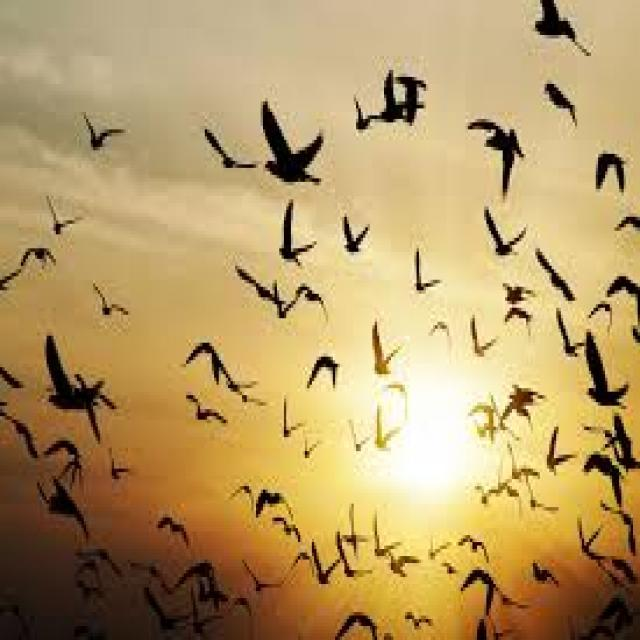bird: (41, 340, 106, 448), (257, 94, 322, 200), (143, 558, 218, 638), (470, 92, 517, 198), (200, 114, 265, 180), (268, 195, 316, 284), (478, 180, 530, 261), (230, 259, 282, 336), (70, 90, 124, 164), (300, 334, 352, 401), (584, 131, 633, 201), (527, 0, 585, 59), (43, 477, 94, 544), (328, 194, 370, 275), (583, 344, 630, 414), (178, 376, 236, 432), (532, 64, 580, 128), (362, 311, 402, 385), (40, 178, 86, 242), (382, 61, 422, 131), (191, 336, 240, 392), (88, 272, 132, 332), (154, 502, 197, 562), (335, 533, 377, 593), (536, 247, 574, 310), (569, 516, 606, 579), (542, 426, 584, 479), (404, 241, 441, 301), (102, 440, 138, 500), (224, 462, 262, 518), (252, 476, 296, 524), (242, 548, 286, 596), (363, 504, 400, 560), (343, 96, 385, 145), (320, 603, 383, 635), (555, 314, 590, 368), (466, 308, 502, 360), (455, 512, 492, 562), (524, 549, 561, 598), (294, 418, 327, 470), (341, 404, 374, 456), (462, 561, 499, 607), (466, 465, 496, 521), (387, 538, 418, 592), (288, 284, 336, 318), (273, 382, 297, 450), (308, 542, 341, 591), (68, 564, 102, 610), (20, 240, 68, 272), (588, 294, 618, 343), (512, 378, 542, 427), (270, 512, 307, 548), (522, 483, 556, 521), (494, 278, 534, 310), (372, 411, 400, 456), (508, 306, 542, 341), (424, 309, 450, 352), (407, 598, 440, 630), (234, 378, 262, 412)
